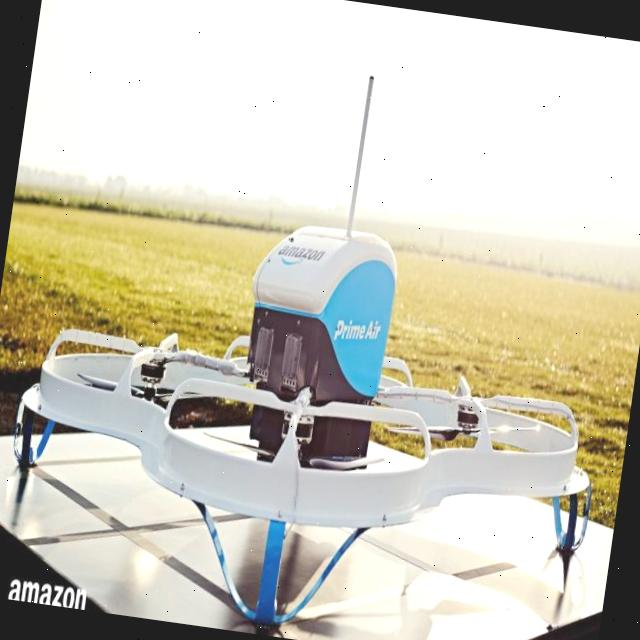drone: (0, 228, 633, 617)
